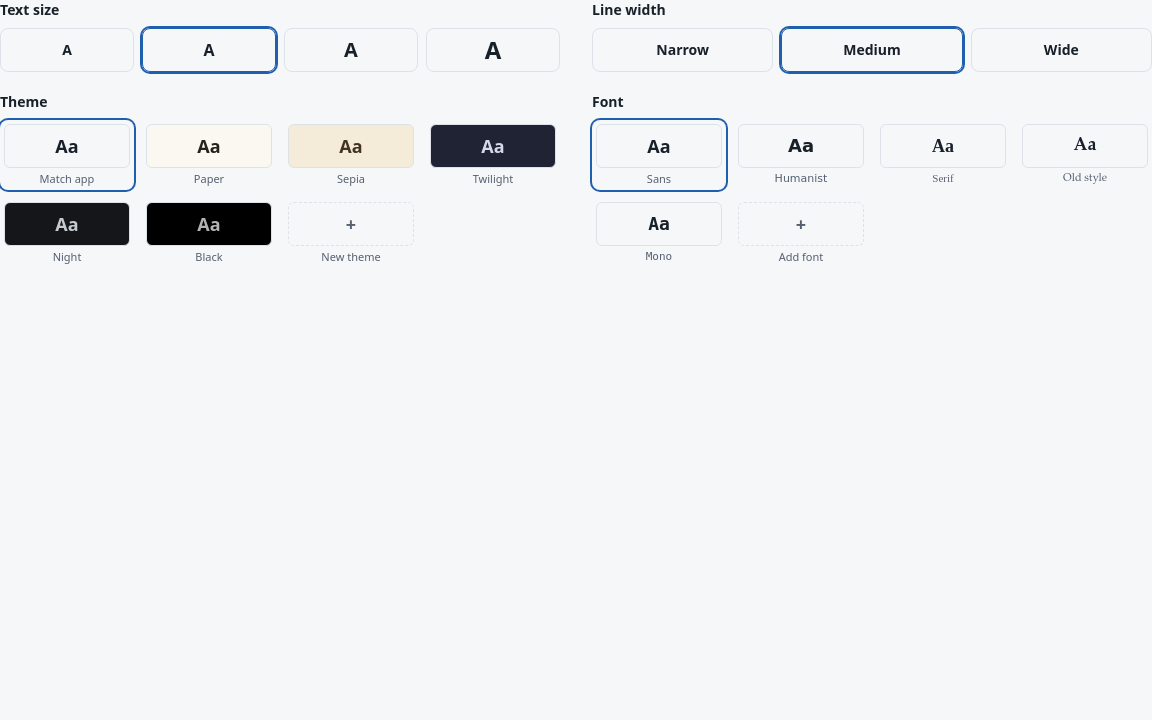
ReaderSettings › themes › shows the contrast and warns when the text would be hard to read
Click the button "+ New theme" at (351, 233), box [284,198,418,268]
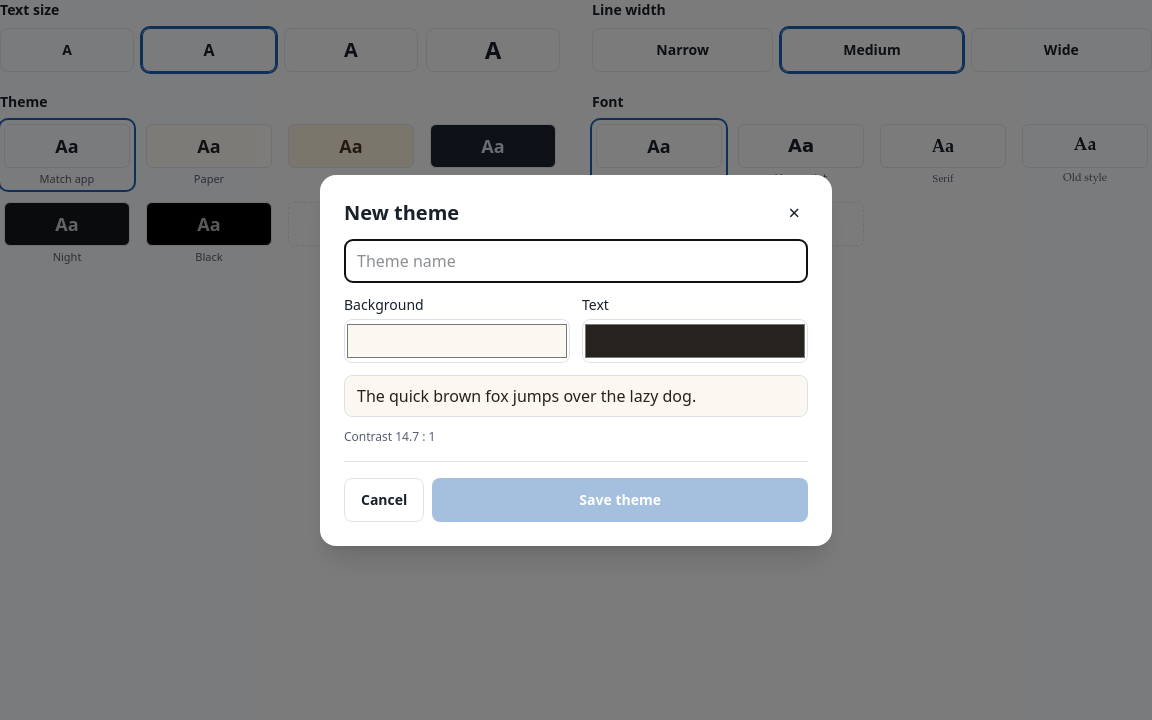
Type "#000000" into the colour field named "Background colour" at (457, 340), box [344,318,570,362]
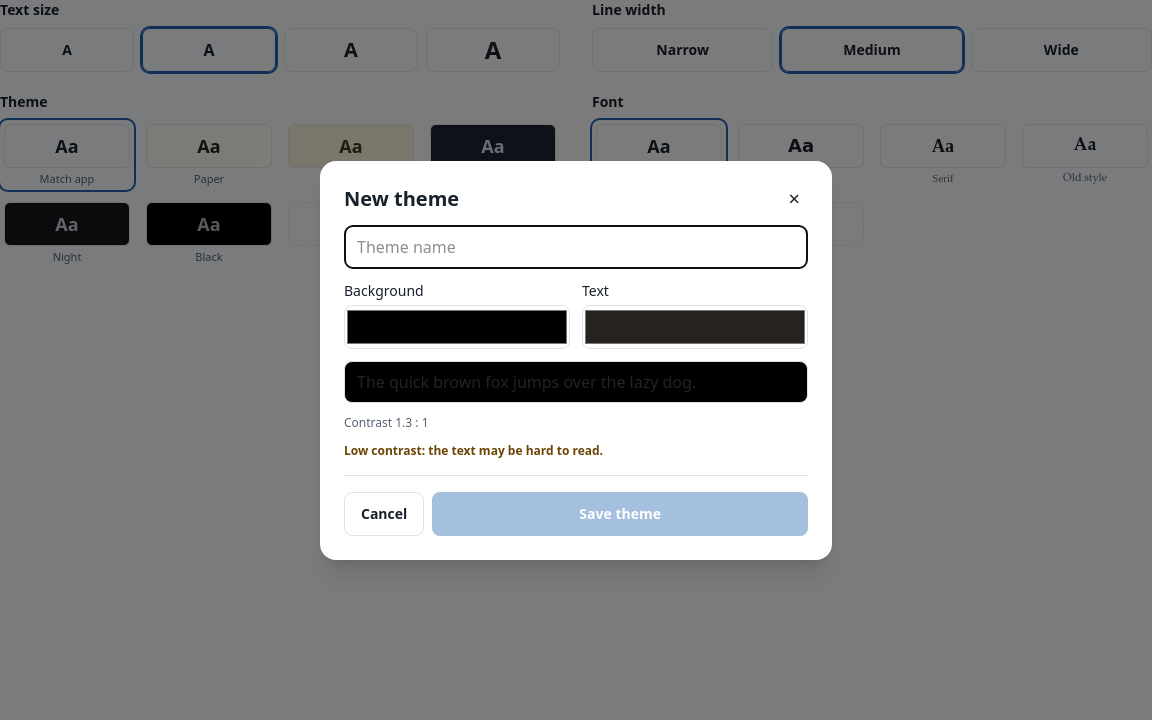
Type "#ffffff" into the colour field named "Text colour" at (695, 326), box [582,304,808,348]
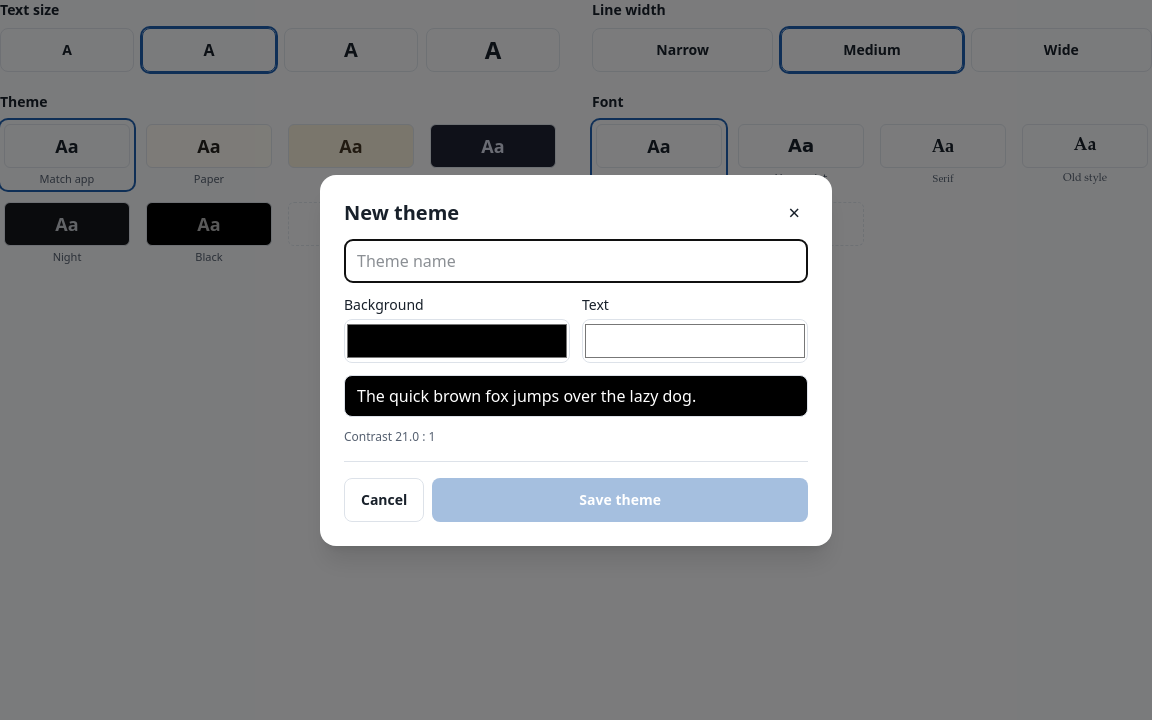
expect the text "Contrast 21.0 : 1" is shown: met, box [344,428,435,444]
expect the text "hard to read" is gone: met
Type "#111111" into the colour field named "Text colour" at (695, 340), box [582,318,808,362]
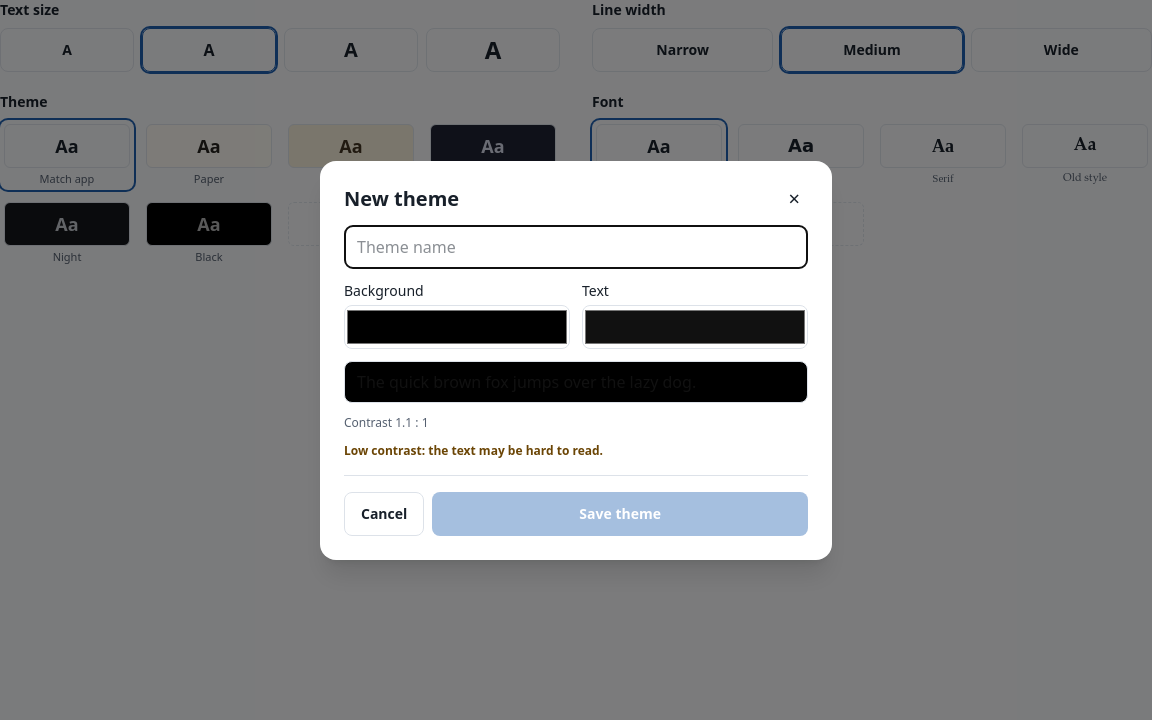
expect the text "Low contrast: the text may be hard to read." is shown: met, box [344,442,603,458]
